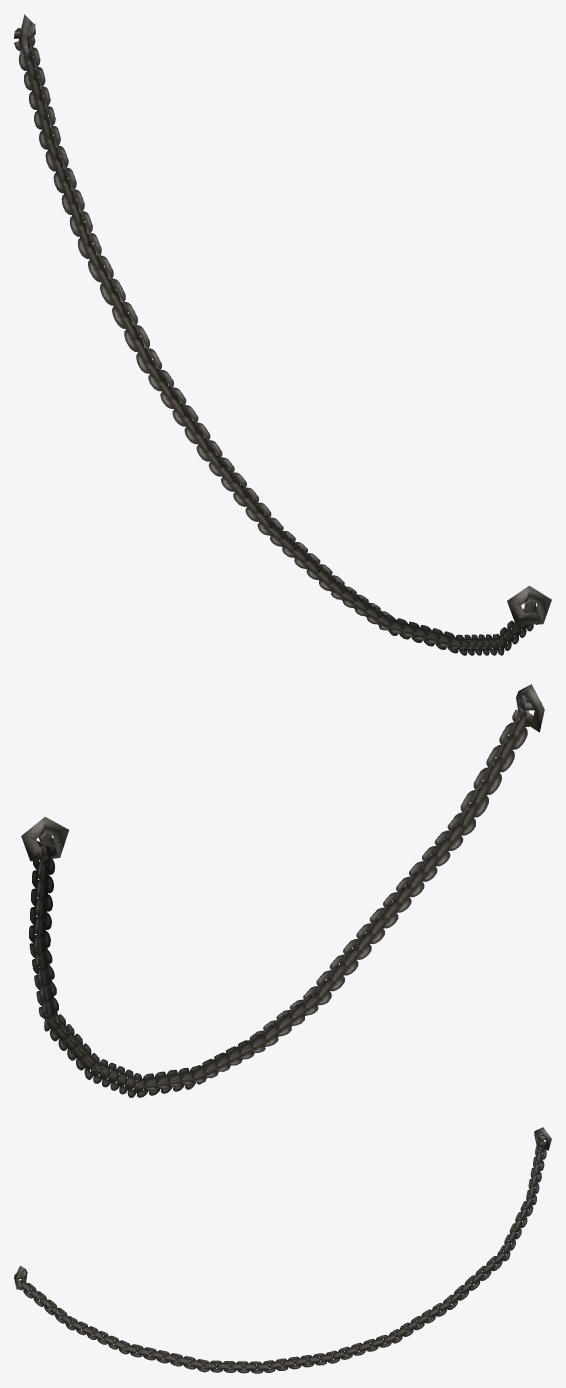
Rendered from brokengatechain01.obj.
3 views of the same model, one above another, from view 1: azimuth 30°, elevation 25°; view 2: azimuth 150°, elevation 25°; view 3: azimuth 270°, elevation 25° (orthographic). The views are drawn at different scales.
Bounding box in the file's own units: 3.74 × 17.62 × 37.35.
1 material, 1 textured.
